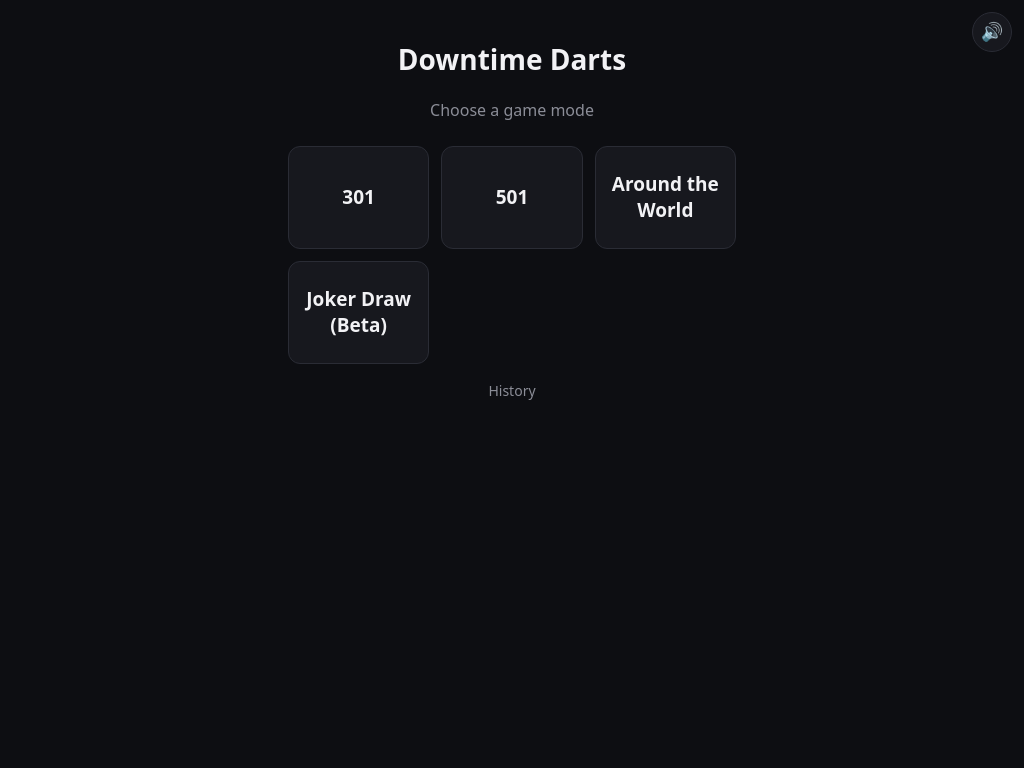
Scenario: scoring buttons › deselects a multiplier when pressed twice
Step 1. Click the button "501" → [512, 197], box [441, 146, 583, 249]
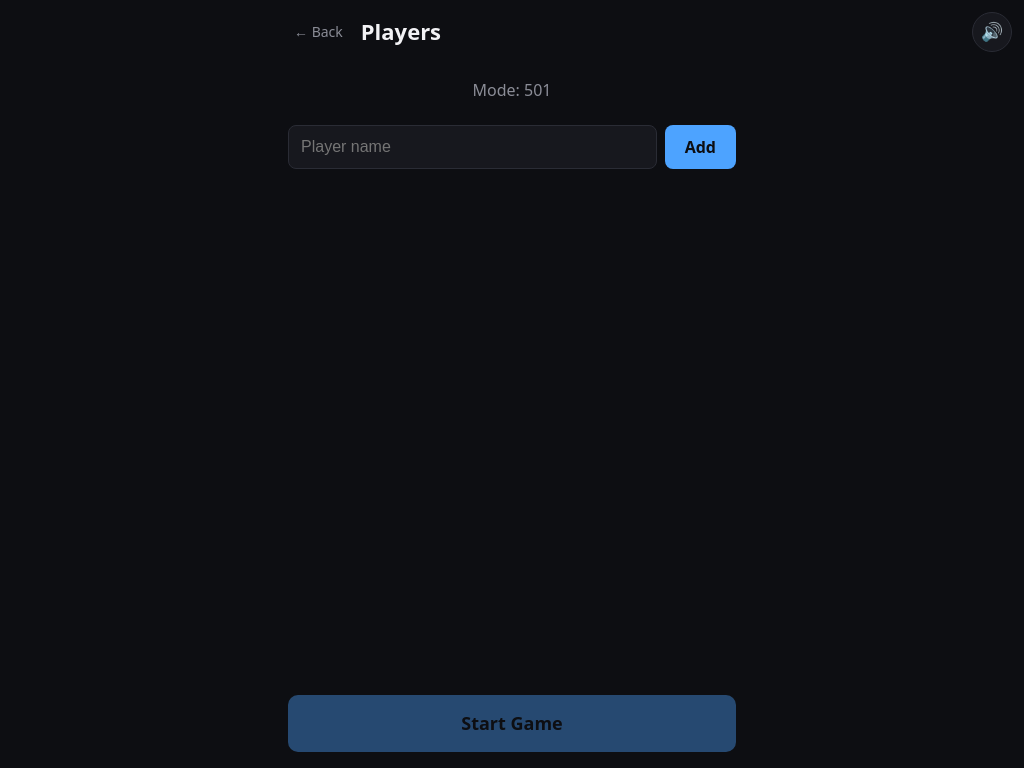
Step 2. Type "Hunter" into the field with placeholder "Player name" → [472, 147], box [288, 125, 657, 169]
Step 3. Click the button "Add" → [700, 147], box [665, 125, 736, 169]
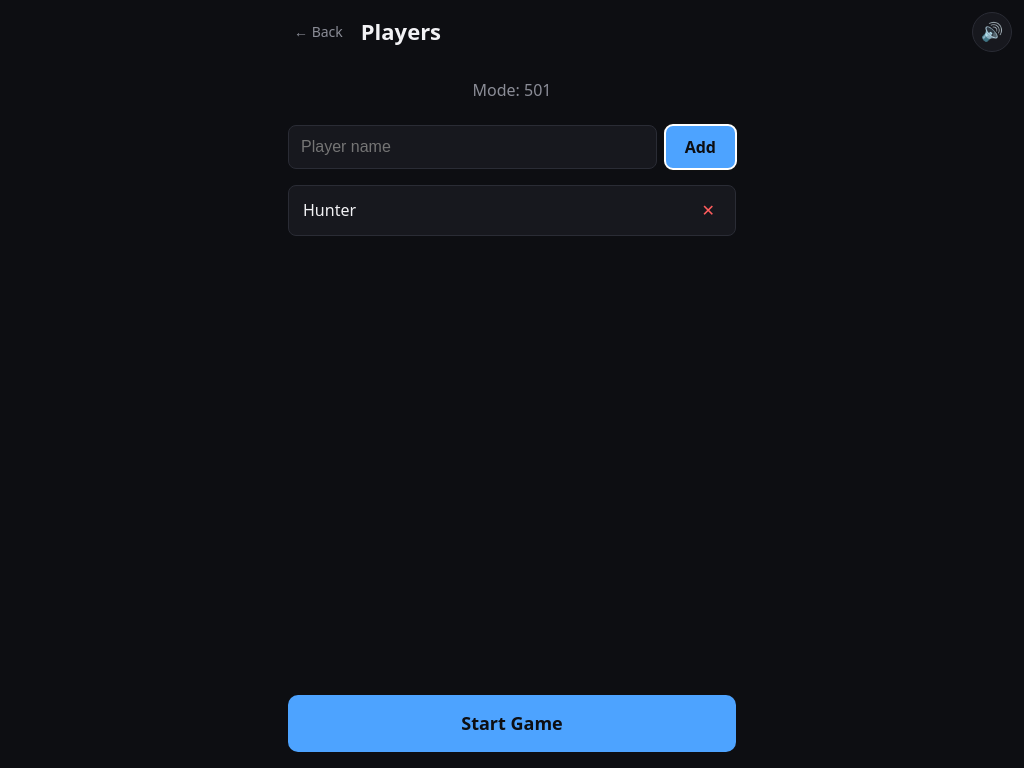
Step 4. Click the button "Start Game" → [512, 723], box [288, 695, 736, 752]
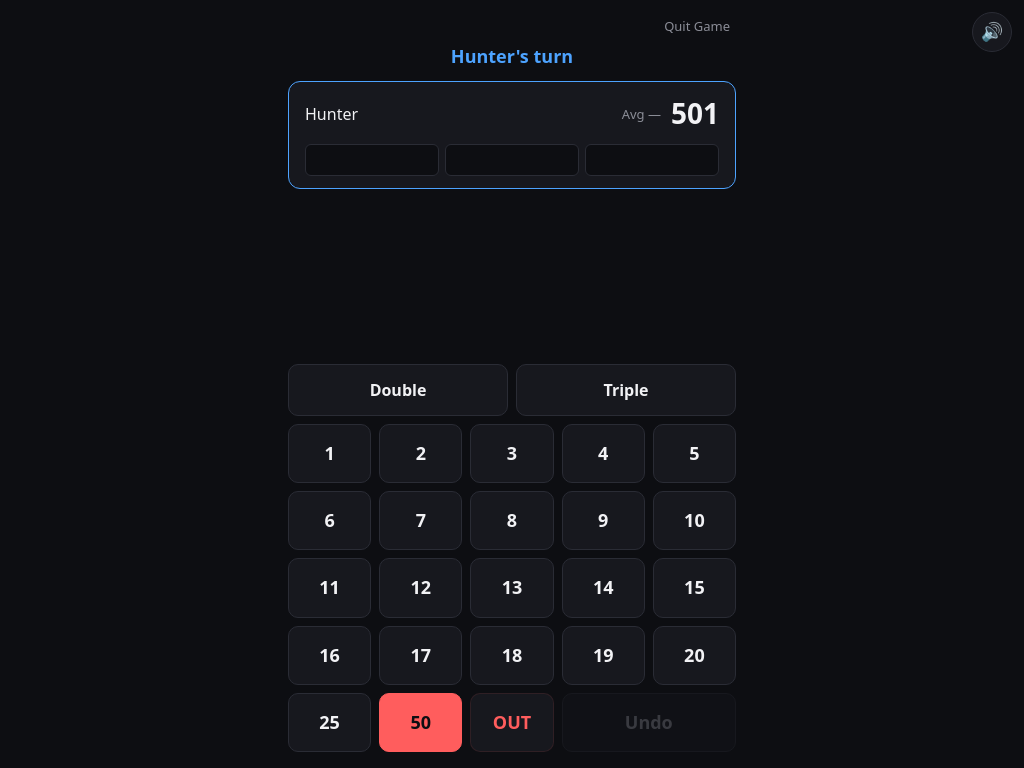
Step 5. Click the button "Double" → [398, 390], box [288, 364, 508, 416]
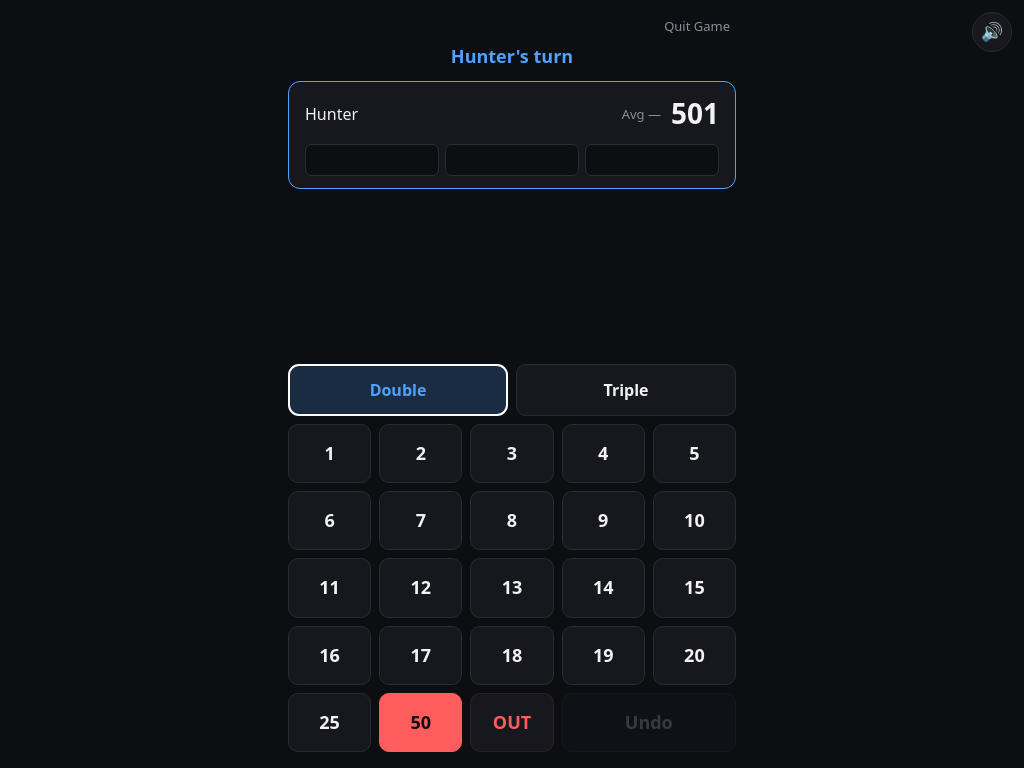
Check: the button "Double" has class "active"
Step 6. Click the button "Double" → [398, 390], box [288, 364, 508, 416]
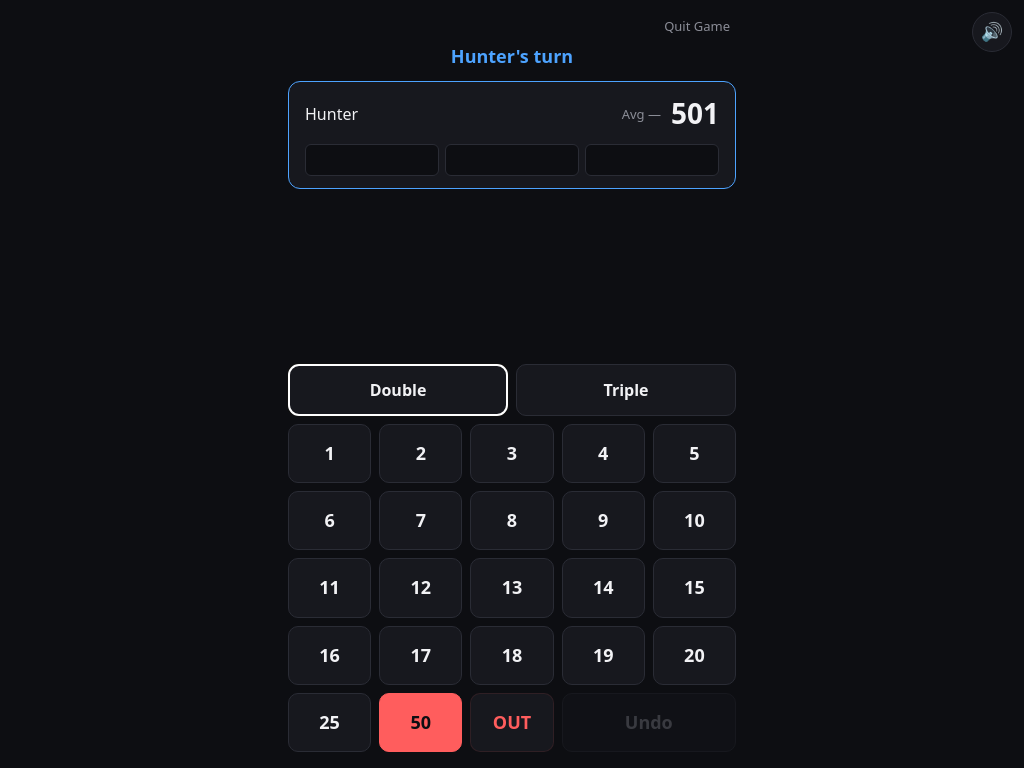
Step 7. Click the button "20" → [694, 655], box [653, 626, 736, 685]
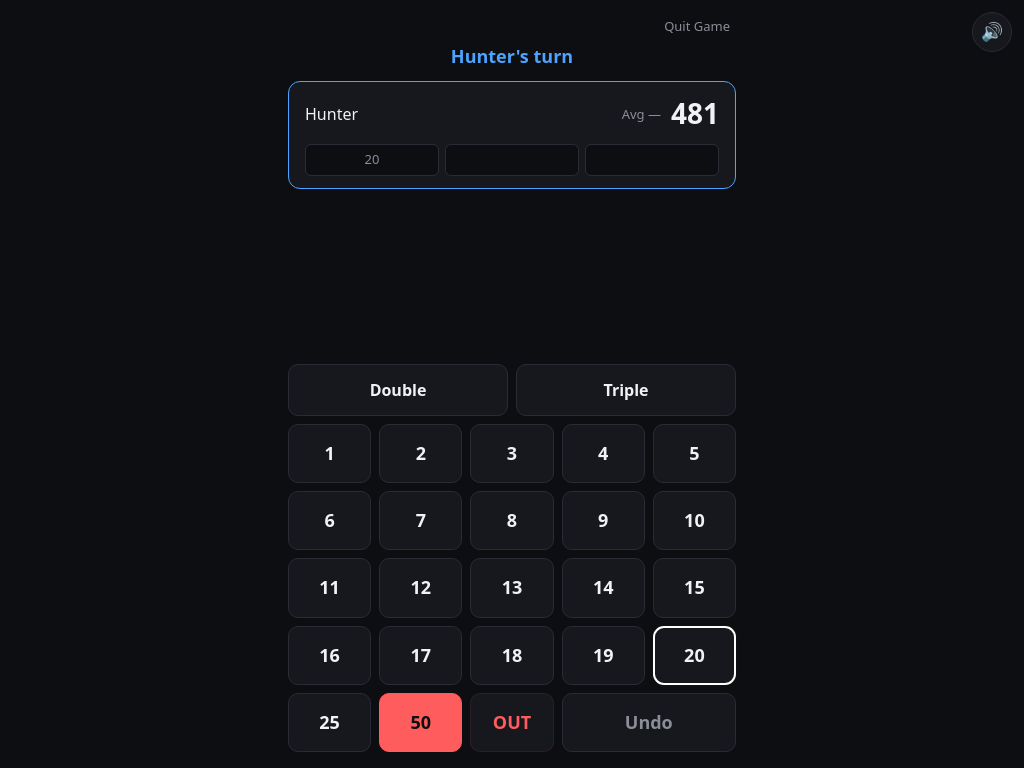
Check: the text "481" is shown, box [671, 94, 719, 134]
